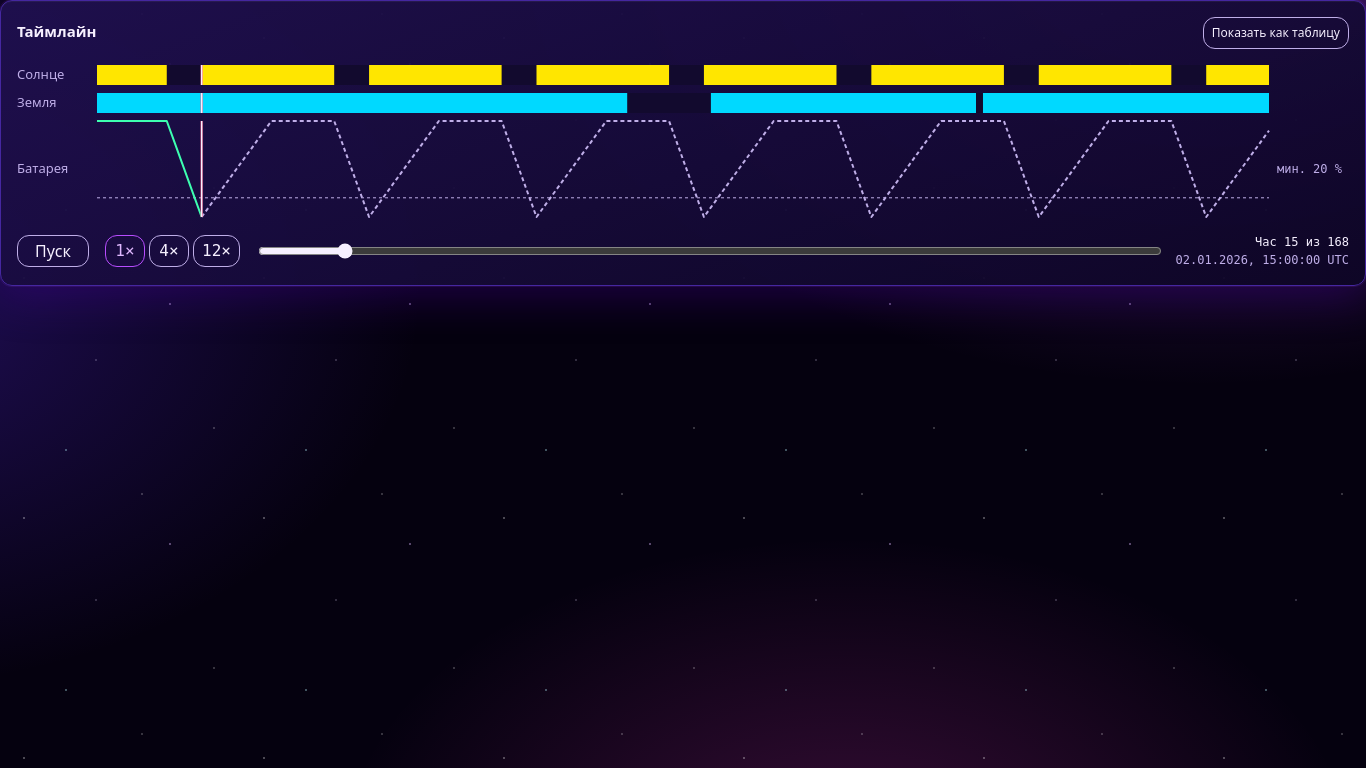
Test case: timeline table › replaces the tracks with a table of the same result without a new revision
Click the button "Показать как таблицу" at [1276, 33], box [1203,17,1349,49]
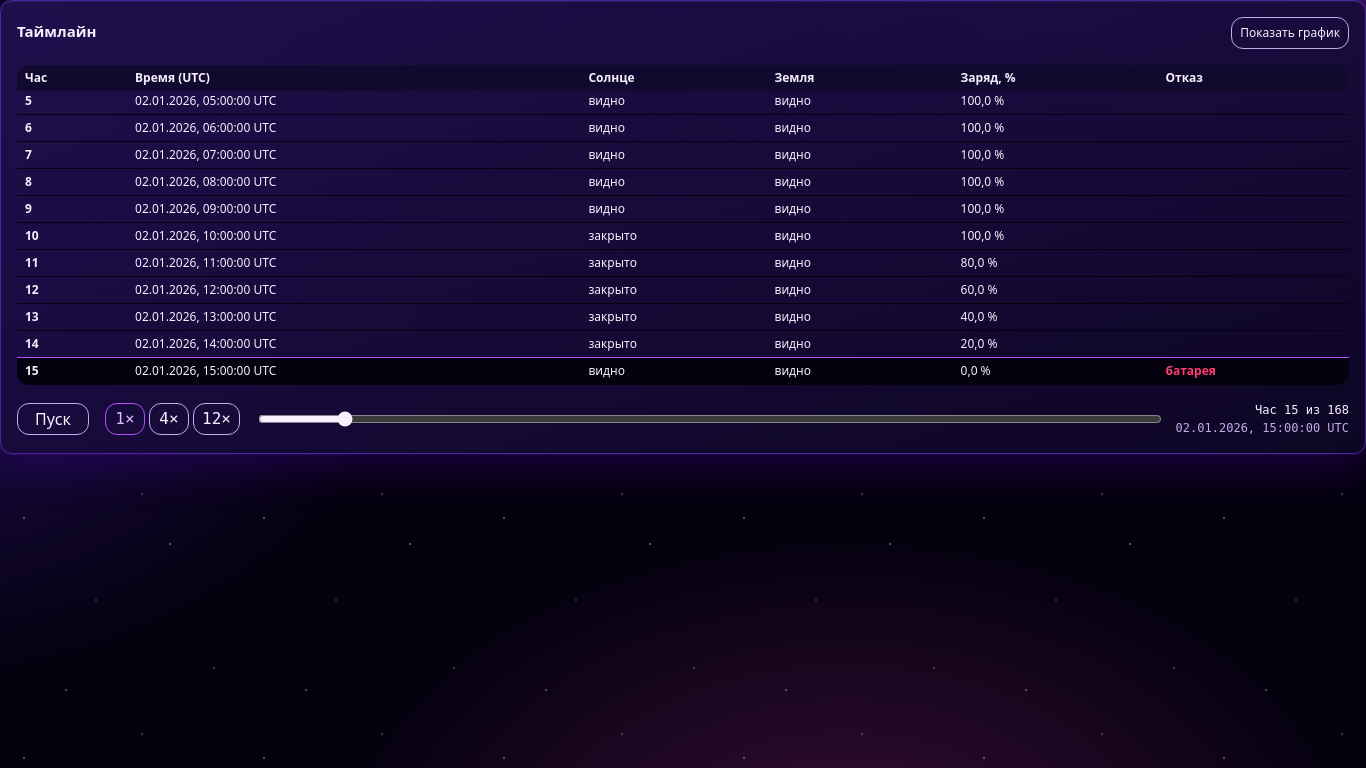
Expected: no pictures are shown
Click the button "Показать график" at [1290, 33], box [1231,17,1349,49]
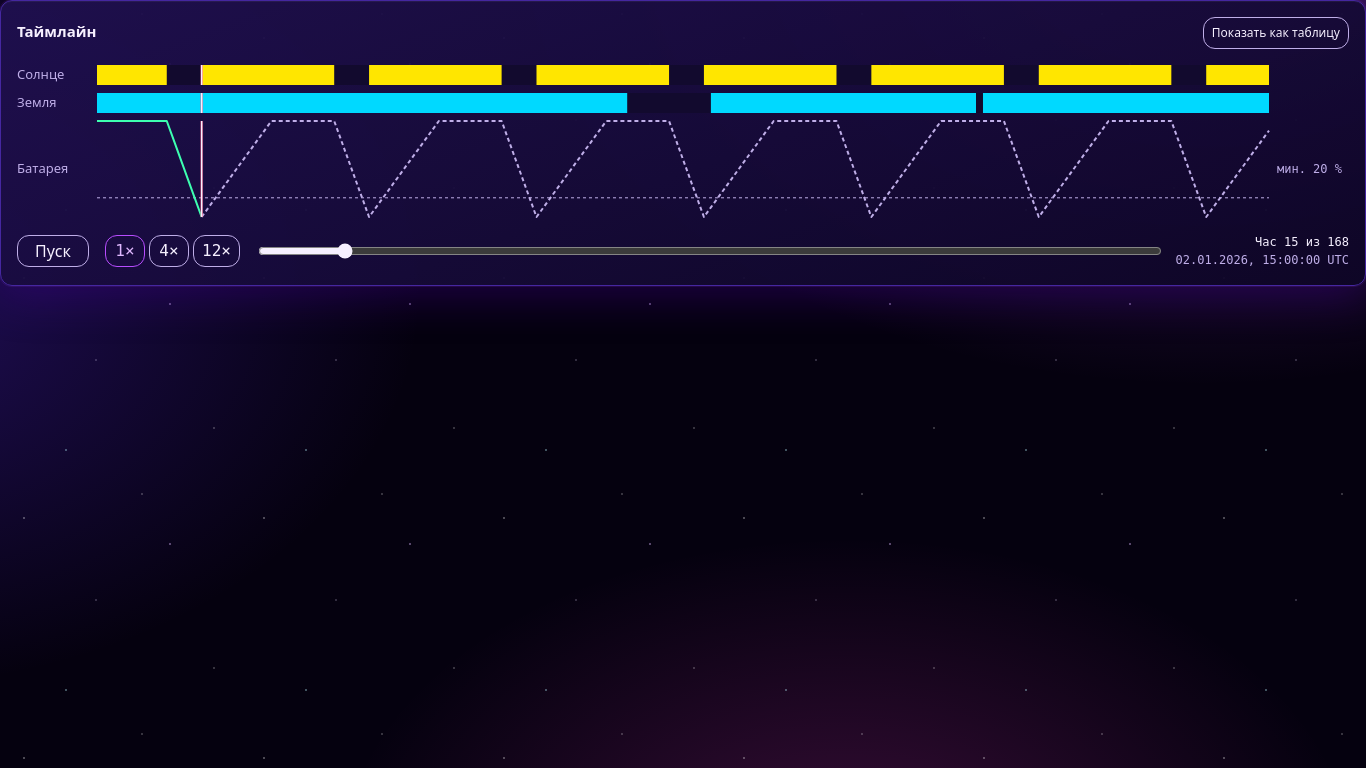
Expected: the number of pictures is 3, [97,65,1269,85]; [97,93,1269,113]; [97,121,1269,217]
